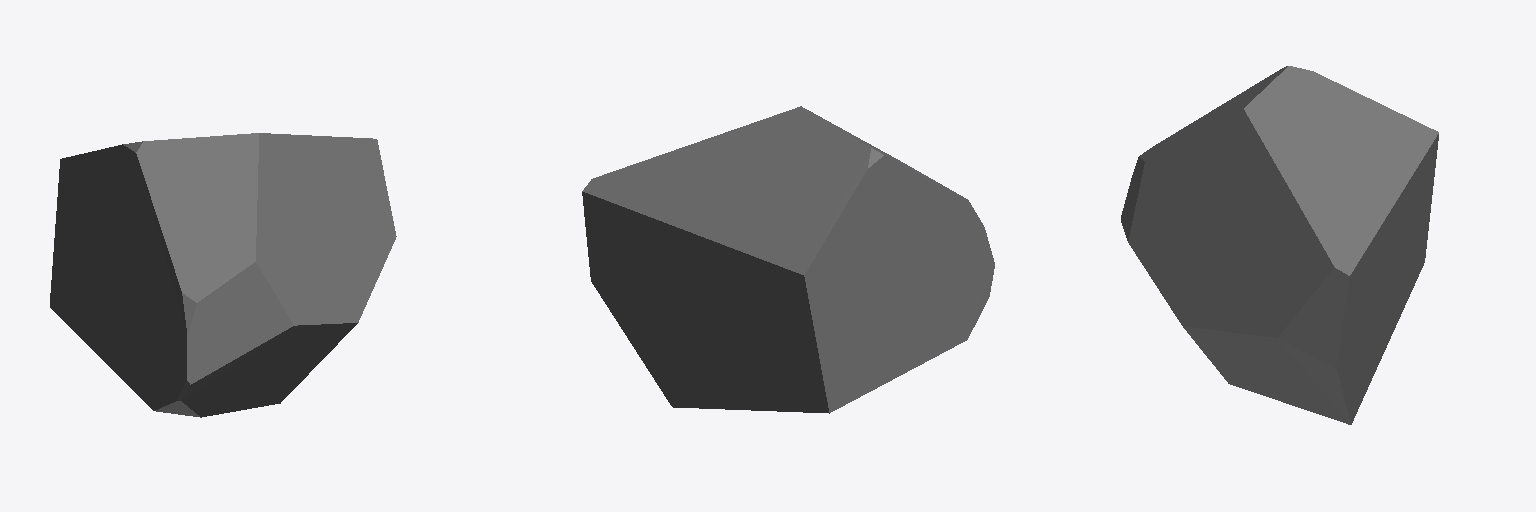
File: rock.obj
3 renders of one model, left to right at view 1: azimuth 30°, elevation 25°; view 2: azimuth 150°, elevation 25°; view 3: azimuth 270°, elevation 25°, orthographic.
Parts seen in each view (by area): view 1: obj1; view 2: obj1; view 3: obj1.
Boxes of the visible parts, box(x1,y1,x2,y2) form: obj1: box(50, 133, 396, 417); obj1: box(582, 106, 994, 413); obj1: box(1121, 66, 1438, 424).
Size of the model in its own units: 0.3518 by 0.3118 by 0.3217.